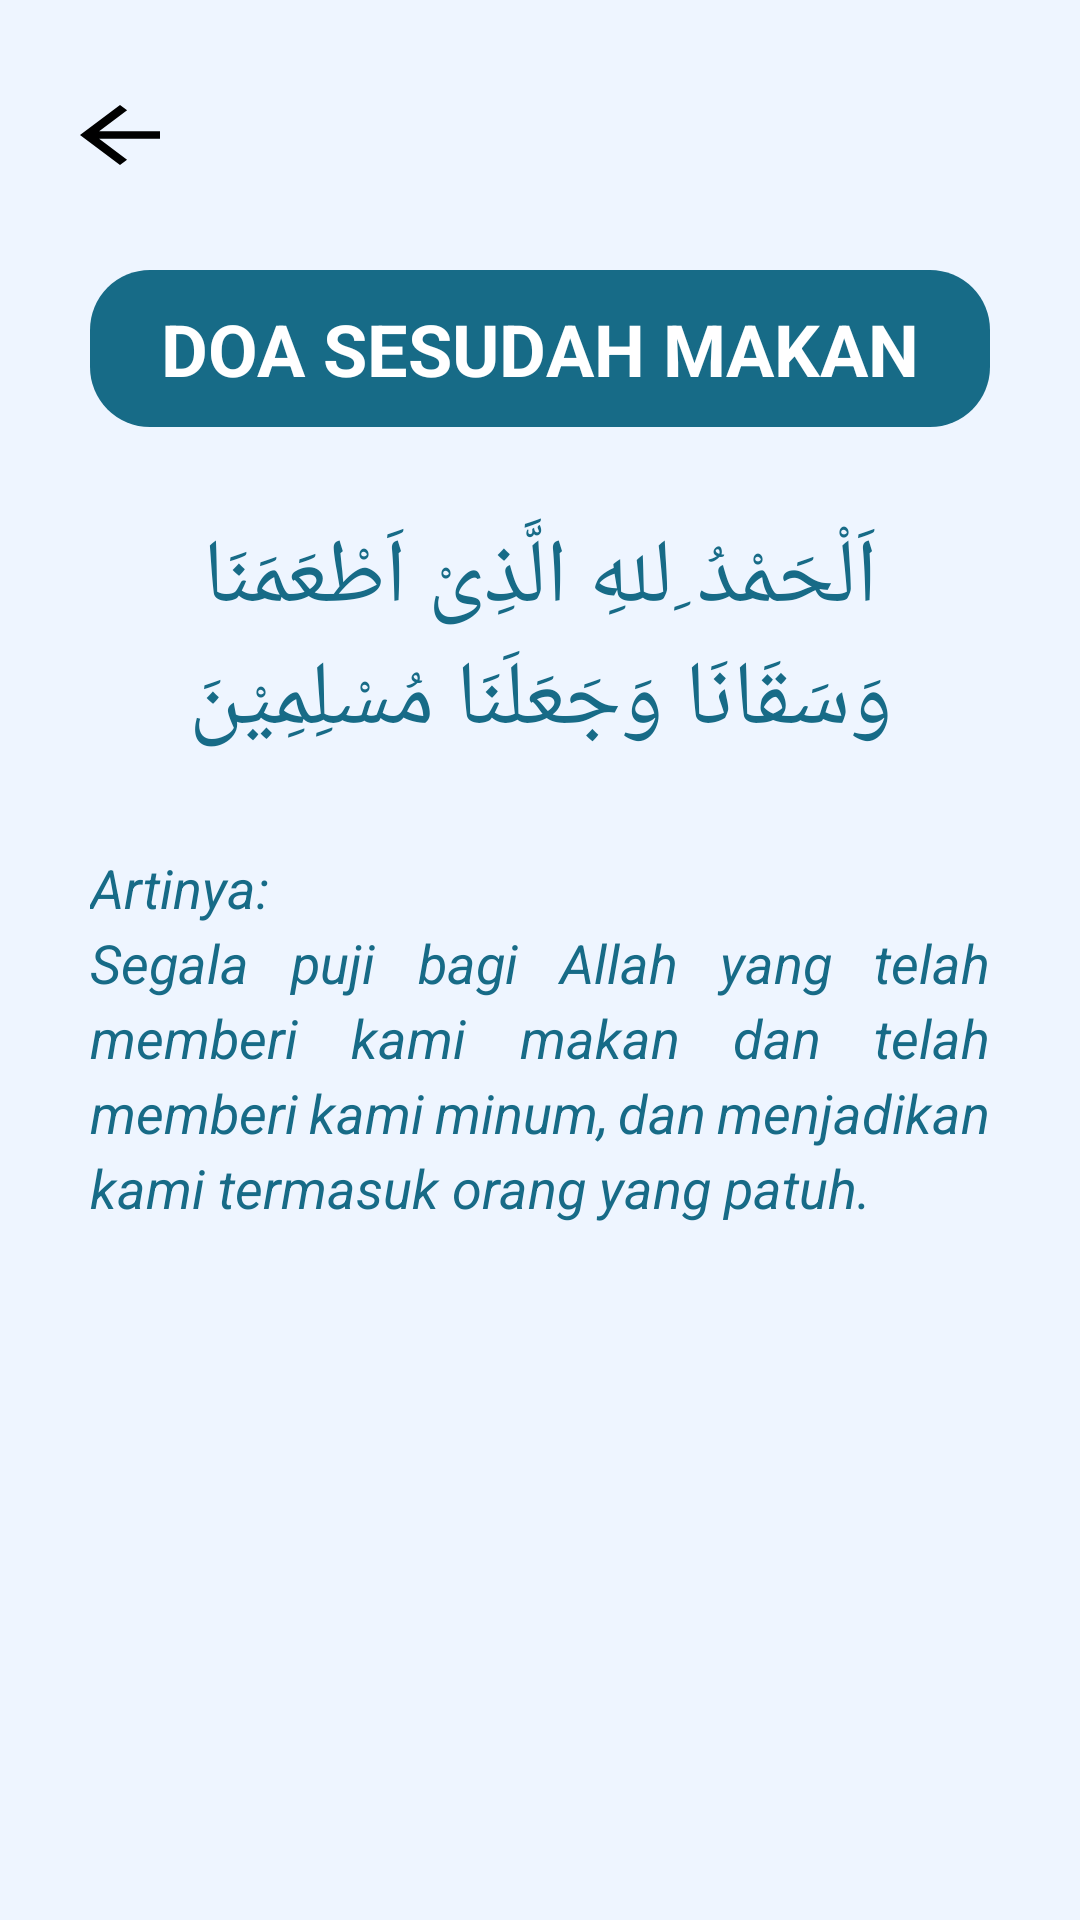

Screen size 1080x1920. Icon name, then its center in pixels as point (x, y):
arrow back: point (120, 135)
